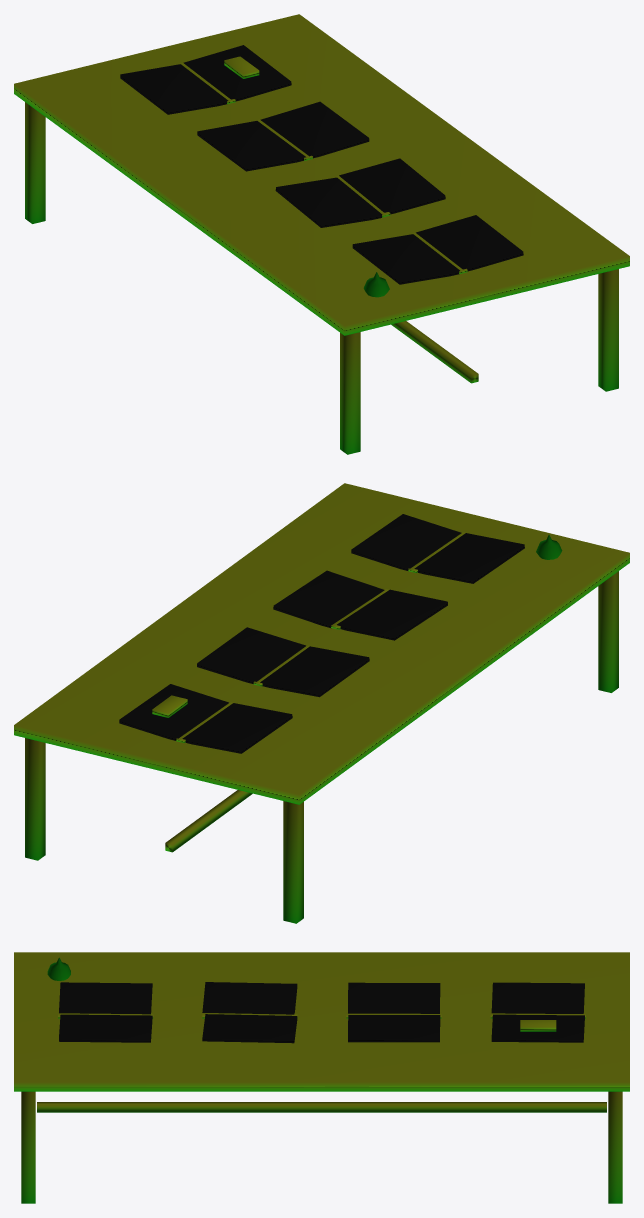
Rendered from reading_table.glb.
3 views of the same model, one above another, from view 1: azimuth 30°, elevation 25°; view 2: azimuth 150°, elevation 25°; view 3: azimuth 270°, elevation 25° (orthographic). The views are drawn at different scales.
Parts seen in each view (by area): view 1: reading_table; view 2: reading_table; view 3: reading_table.
Boxes of the visible parts, left/top/right/bottom form: reading_table: left=14, top=14, right=629, bottom=454; reading_table: left=14, top=483, right=629, bottom=923; reading_table: left=14, top=952, right=629, bottom=1203.
Size of what is drawn, in the model's own units: 1.99 by 1.04 by 3.99.
